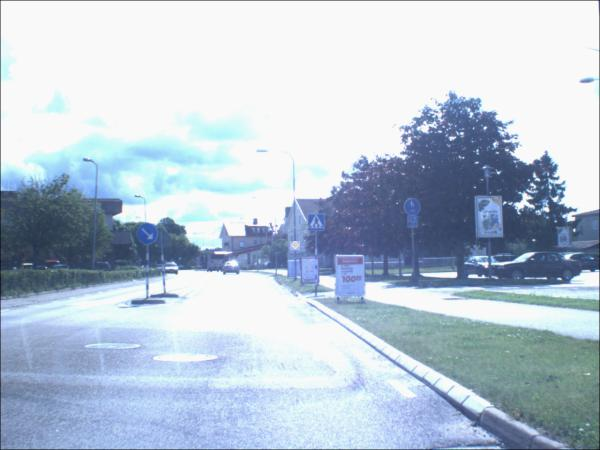PASS_RIGHT_SIDE: (138, 224, 161, 246)
PEDESTRIAN_CROSSING: (309, 215, 327, 233)
PRIORITY_ROAD: (291, 243, 302, 253)
